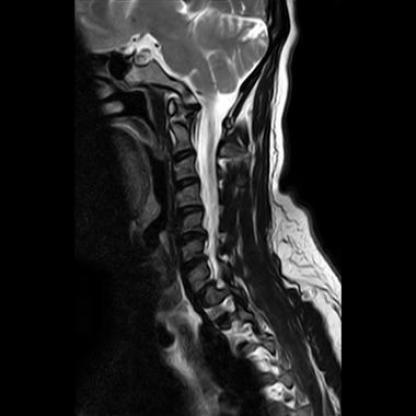Disc Bulgerotation: (174, 230, 205, 247), (180, 256, 208, 271)
Osteophytesrotation: (174, 230, 205, 247), (180, 256, 208, 272)
